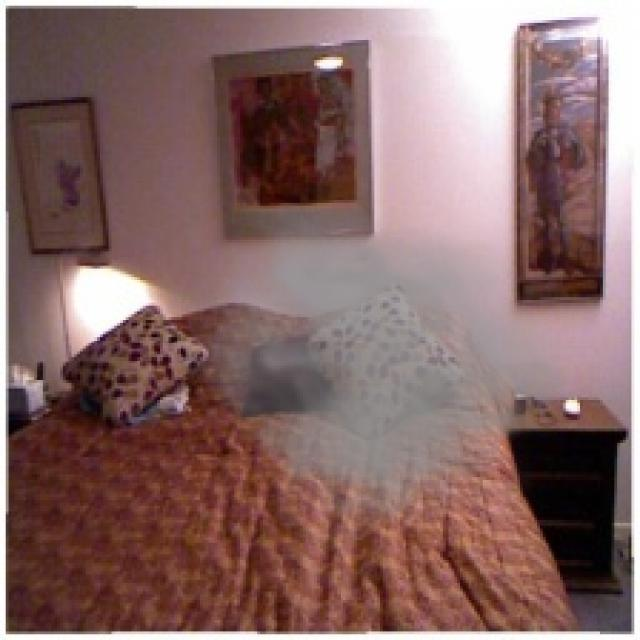smoke: (171, 209, 586, 560)
